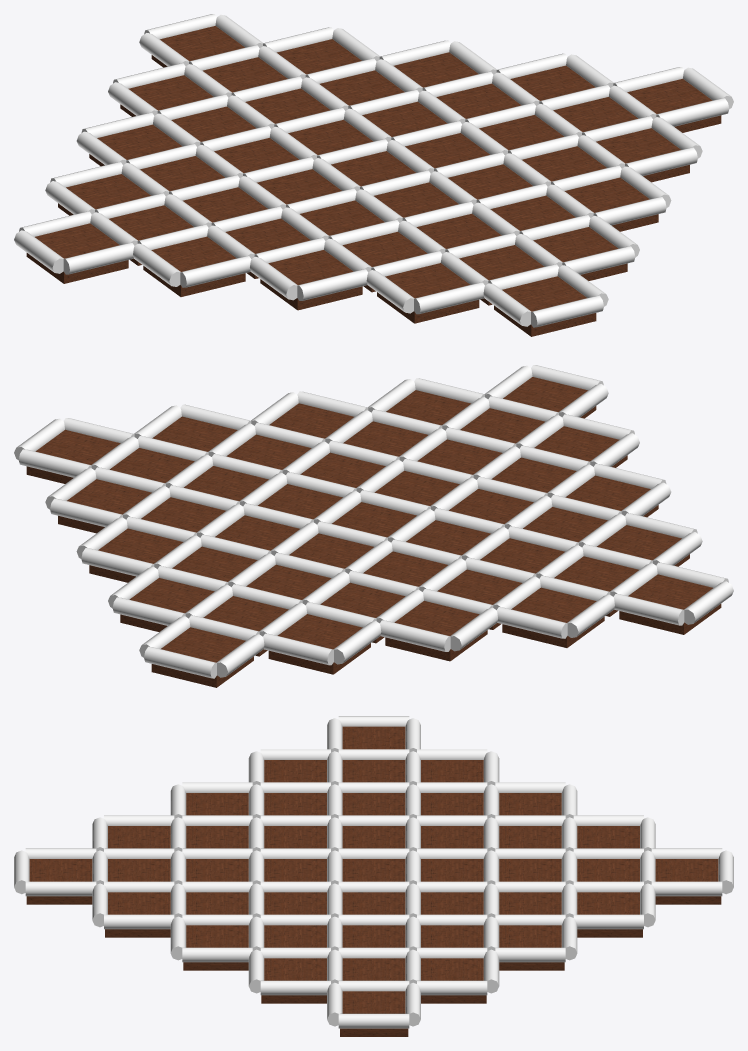
3 views of the same model, one above another, from view 1: azimuth 30°, elevation 25°; view 2: azimuth 150°, elevation 25°; view 3: azimuth 270°, elevation 25° (orthographic). The views are drawn at different scales.
Parts seen in each view (by area): view 1: R4C8, R8C4, R6C6, R5C7, R7C5, R3C7, R0C4, R2C6, R1C5, R5C1, R4C0, R6C2 (+129 smaller); view 2: R4C0, R8C4, R6C2, R5C1, R7C3, R0C4, R3C1, R2C2, R1C3, R5C7, R4C8, R7C5 (+129 smaller); view 3: R0C4, R4C0, R4C8, R3C7, R2C6, R1C5, R3C1, R2C2, R1C3, R8C4, R4C4, R1C4 (+89 smaller).
Part boxes in pixels (<box>): R4C8: <box>494,276,596,336</box>; R8C4: <box>26,223,128,283</box>; R6C6: <box>260,250,362,310</box>; R5C7: <box>377,263,479,323</box>; R7C5: <box>143,236,245,296</box>; R3C7: <box>533,227,627,280</box>; R0C4: <box>627,78,721,132</box>; R2C6: <box>564,177,658,231</box>; R1C5: <box>596,128,689,182</box>; R5C1: <box>120,75,213,116</box>; R4C0: <box>151,26,244,67</box>; R6C2: <box>89,124,182,166</box>; R4C0: <box>151,627,253,687</box>; R8C4: <box>619,574,721,634</box>; R6C2: <box>385,601,487,661</box>; R5C1: <box>268,614,370,674</box>; R7C3: <box>502,587,604,647</box>; R0C4: <box>26,429,120,483</box>; R3C1: <box>120,578,214,631</box>; R2C2: <box>89,528,183,582</box>; R1C3: <box>58,479,151,533</box>; R5C7: <box>534,426,627,467</box>; R4C8: <box>503,377,596,418</box>; R7C5: <box>597,525,689,566</box>; R0C4: <box>340,991,408,1036</box>; R4C0: <box>655,859,721,904</box>; R4C8: <box>26,859,92,904</box>; R3C7: <box>105,892,170,937</box>; R2C6: <box>183,925,248,970</box>; R1C5: <box>261,958,326,1003</box>; R3C1: <box>577,892,642,937</box>; R2C2: <box>499,925,564,970</box>; R1C3: <box>421,958,486,1003</box>; R8C4: <box>342,726,405,749</box>; R4C4: <box>342,859,405,881</box>; R1C4: <box>342,958,405,980</box>.
Bounding box in the file's own units: 18.4 × 0.7 × 18.4.
Materials: 101 (1 with a texture image).
